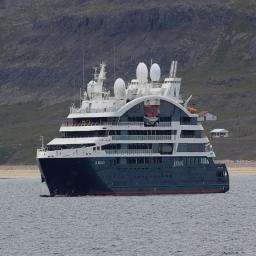cruises: (34, 44, 234, 202)
